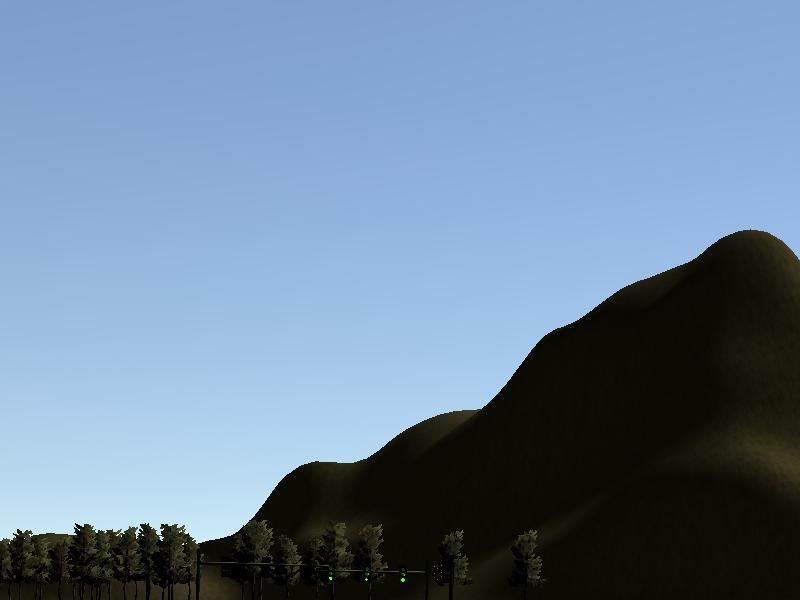Green: (325, 560, 336, 587), (359, 563, 371, 586), (397, 565, 407, 588)
